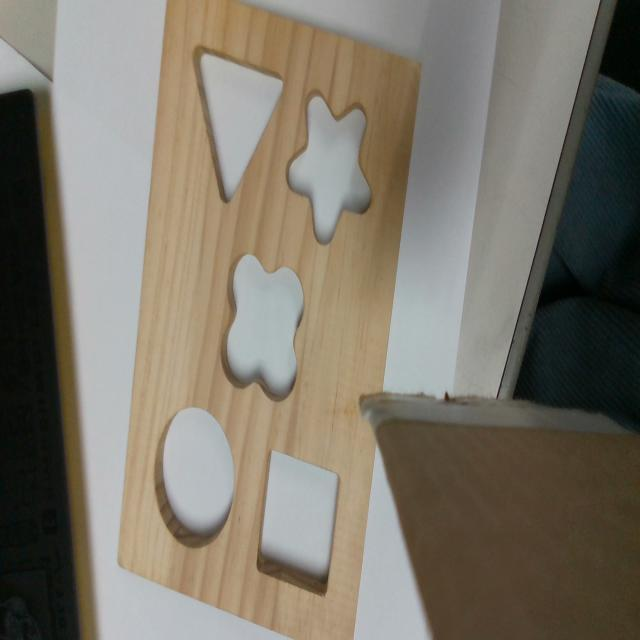circle: (156, 406, 236, 548)
flower: (219, 251, 303, 396)
square: (256, 448, 340, 597)
star: (287, 90, 372, 244)
triangle: (193, 42, 284, 206)
